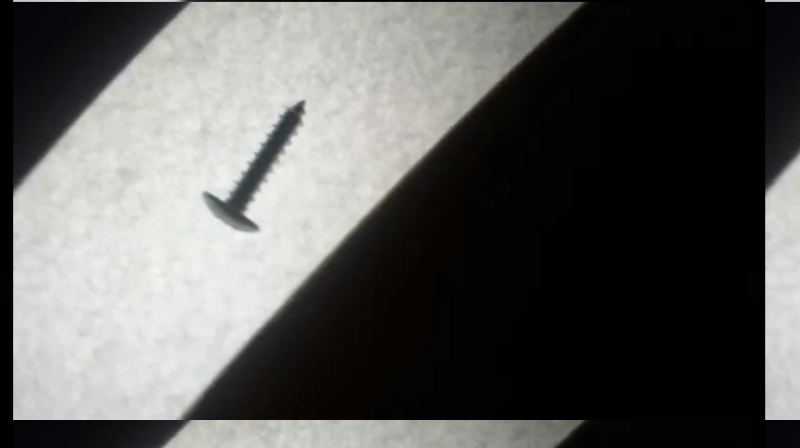S003: (200, 95, 309, 236)
